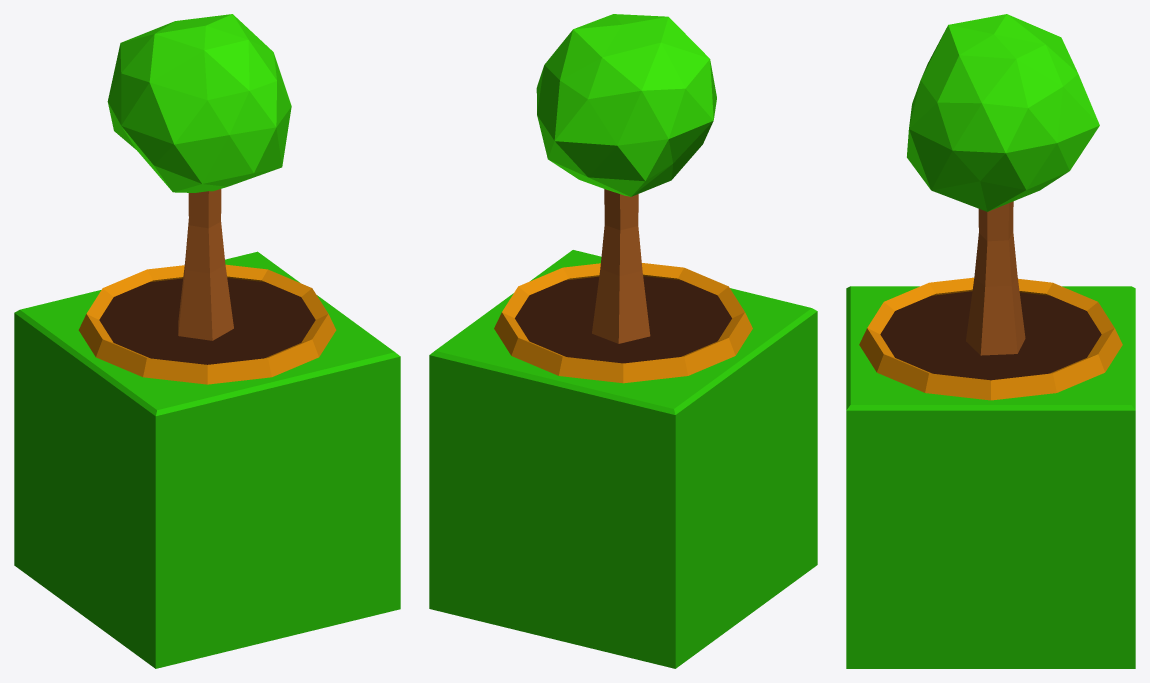
Rendered from tree.glb.
3 renders of one model, left to right at view 1: azimuth 30°, elevation 25°; view 2: azimuth 150°, elevation 25°; view 3: azimuth 270°, elevation 25°, orthographic. The views are drawn at different scales.
Visible parts, largest first — view 1: Tree; view 2: Tree; view 3: Tree.
Boxes of the visible parts, x1,y1,x2,y2 form: Tree: (14, 14, 400, 668); Tree: (429, 14, 817, 668); Tree: (846, 14, 1135, 668).
Bounding box in the file's own units: 2 × 4.37 × 2.
